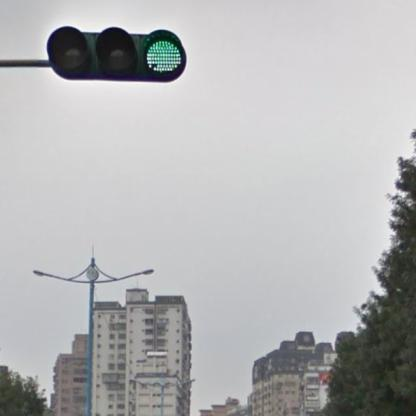Green Light: (50, 26, 184, 83)
